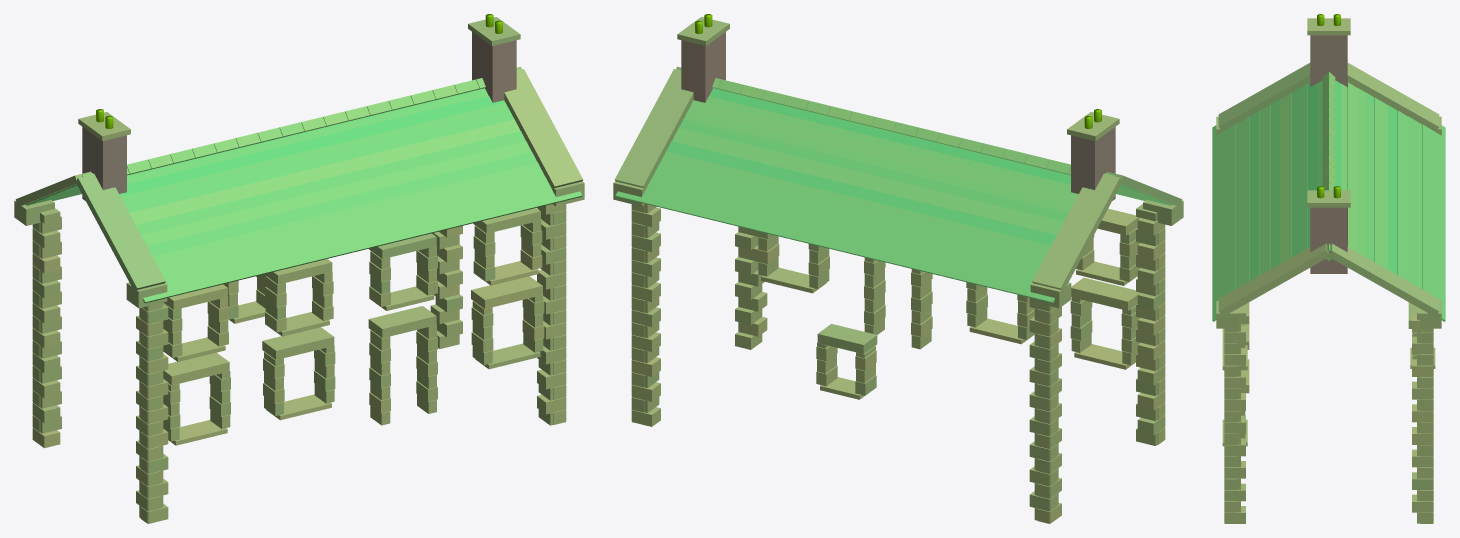
File: SM_Bld_157_Stone.glb
The picture shows the model from 3 angles, left to right: view 1: azimuth 30°, elevation 25°; view 2: azimuth 150°, elevation 25°; view 3: azimuth 270°, elevation 25°; orthographic projection. The views are drawn at different scales.
Parts seen in each view (by area): view 1: SM_Bld_157_Stone; view 2: SM_Bld_157_Stone; view 3: SM_Bld_157_Stone.
Part boxes in pixels (x1,y1,x2,y2): SM_Bld_157_Stone: [14, 14, 584, 523]; SM_Bld_157_Stone: [613, 14, 1183, 523]; SM_Bld_157_Stone: [1212, 14, 1445, 523].
Size of the model in its own units: 11.22 by 8.76 by 5.61.
